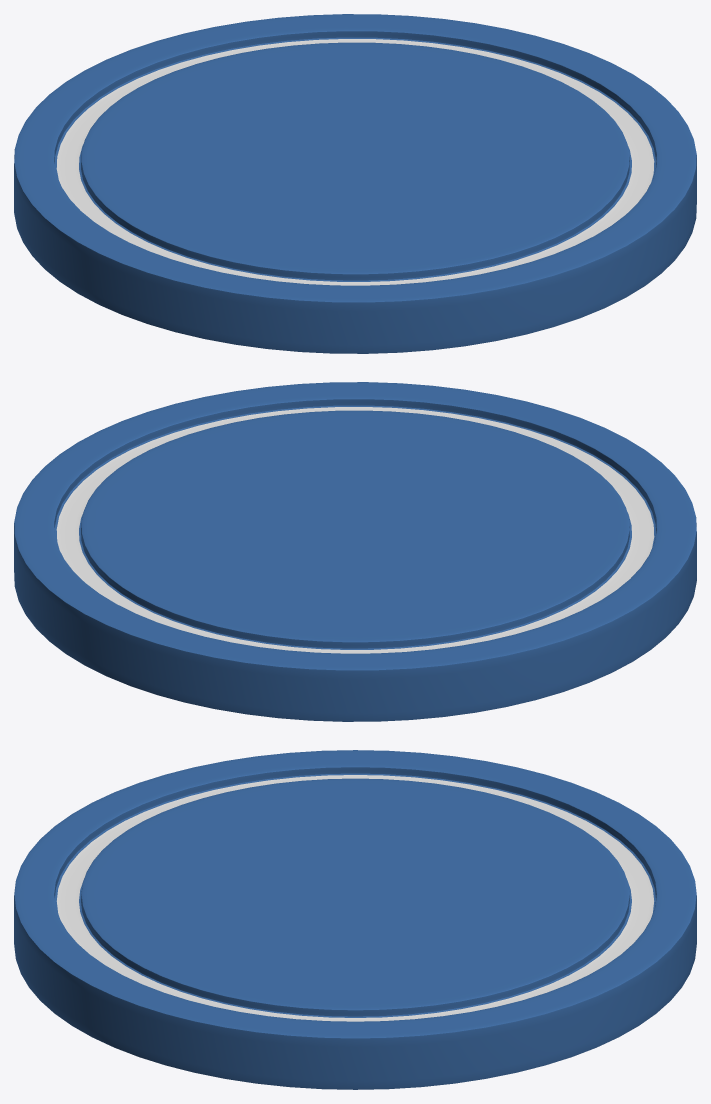
The model's file is Platform.fbx.
3 renders of one model, top to bottom at view 1: azimuth 30°, elevation 25°; view 2: azimuth 150°, elevation 25°; view 3: azimuth 270°, elevation 25°, orthographic.
Visible parts, largest first — view 1: Cylinder.002; view 2: Cylinder.002; view 3: Cylinder.002.
Boxes of the visible parts, box(x1,y1,x2,y2) form: Cylinder.002: box(14, 14, 696, 353); Cylinder.002: box(14, 382, 696, 721); Cylinder.002: box(14, 750, 696, 1089).
Bounding box in the file's own units: 15.32 × 1.29 × 15.32.
